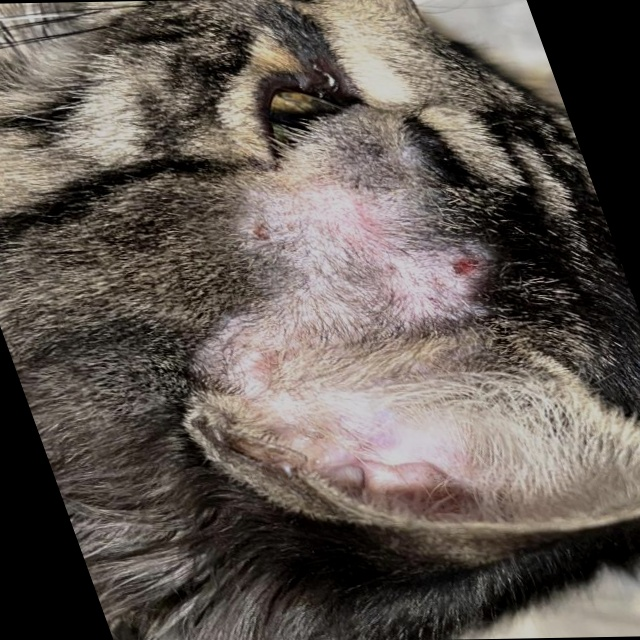ringworm: (238, 185, 504, 334)
